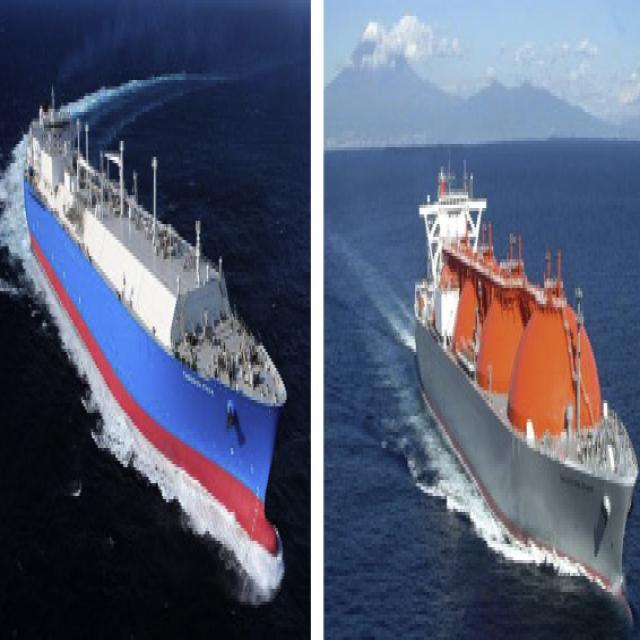boat: (410, 131, 640, 621)
